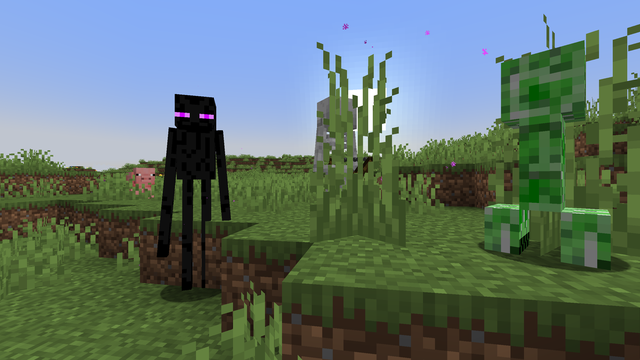cochons: (116, 171, 156, 199)
creepers: (488, 30, 618, 265)
endermens: (164, 86, 225, 296)
squelettes: (316, 95, 353, 217)
